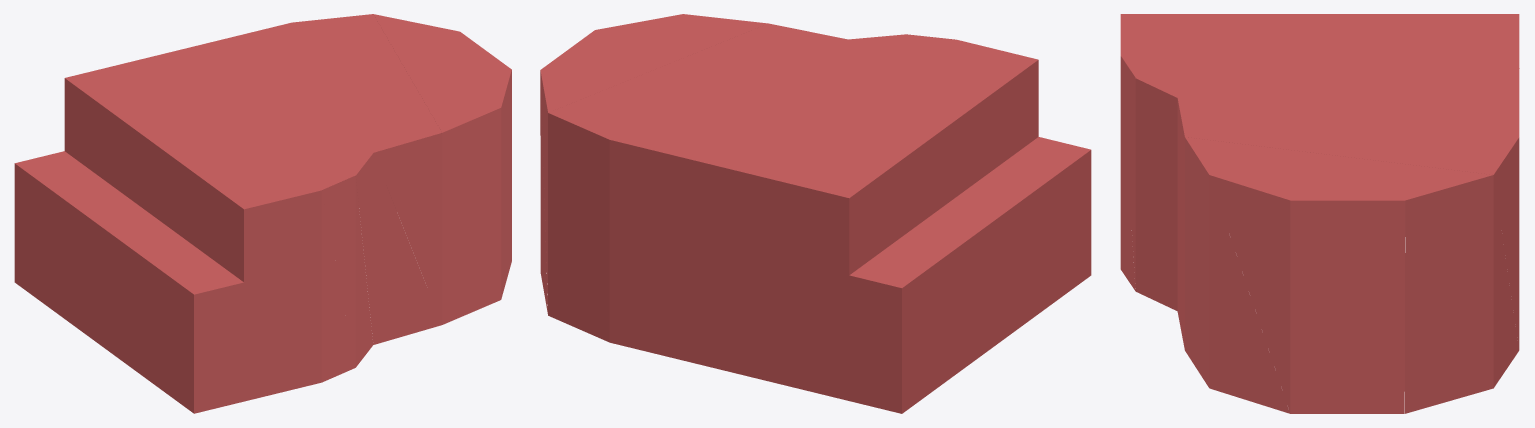
File: objcol_piano.glb
3 views of the same model, side by side, from view 1: azimuth 30°, elevation 25°; view 2: azimuth 150°, elevation 25°; view 3: azimuth 270°, elevation 25° (orthographic). The views are drawn at different scales.
Visible parts, largest first — view 1: piano_col; view 2: piano_col; view 3: piano_col.
Boxes of the visible parts, x1,y1,x2,y2 form: piano_col: [14, 14, 511, 413]; piano_col: [540, 14, 1091, 413]; piano_col: [1120, 14, 1519, 413].
Size of the model in its own units: 3.55 by 1.66 by 2.81.
